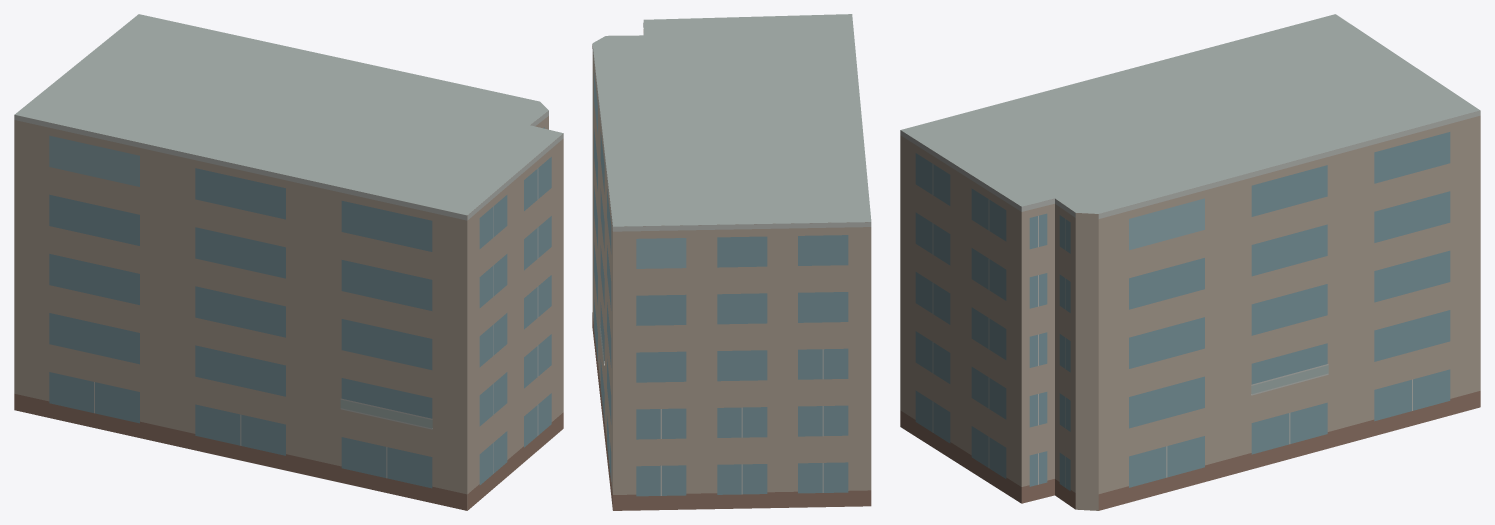
File: survey-upis-32873230.glb
The picture shows the model from 3 angles, left to right: view 1: azimuth 30°, elevation 25°; view 2: azimuth 150°, elevation 25°; view 3: azimuth 270°, elevation 25°; orthographic projection. The views are drawn at different scales.
Parts seen in each view (by area): view 1: survey-upis-32873230.tmp; view 2: survey-upis-32873230.tmp; view 3: survey-upis-32873230.tmp.
Part boxes in pixels (left/top/right/bottom): survey-upis-32873230.tmp: left=14, top=14, right=563, bottom=510; survey-upis-32873230.tmp: left=592, top=14, right=871, bottom=510; survey-upis-32873230.tmp: left=900, top=14, right=1480, bottom=510.
Size of the model in its own units: 20.09 by 13.9 by 24.62.
